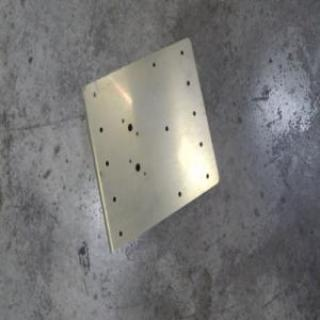MetalSheettrack_idkeyframe: (78, 34, 220, 256)
